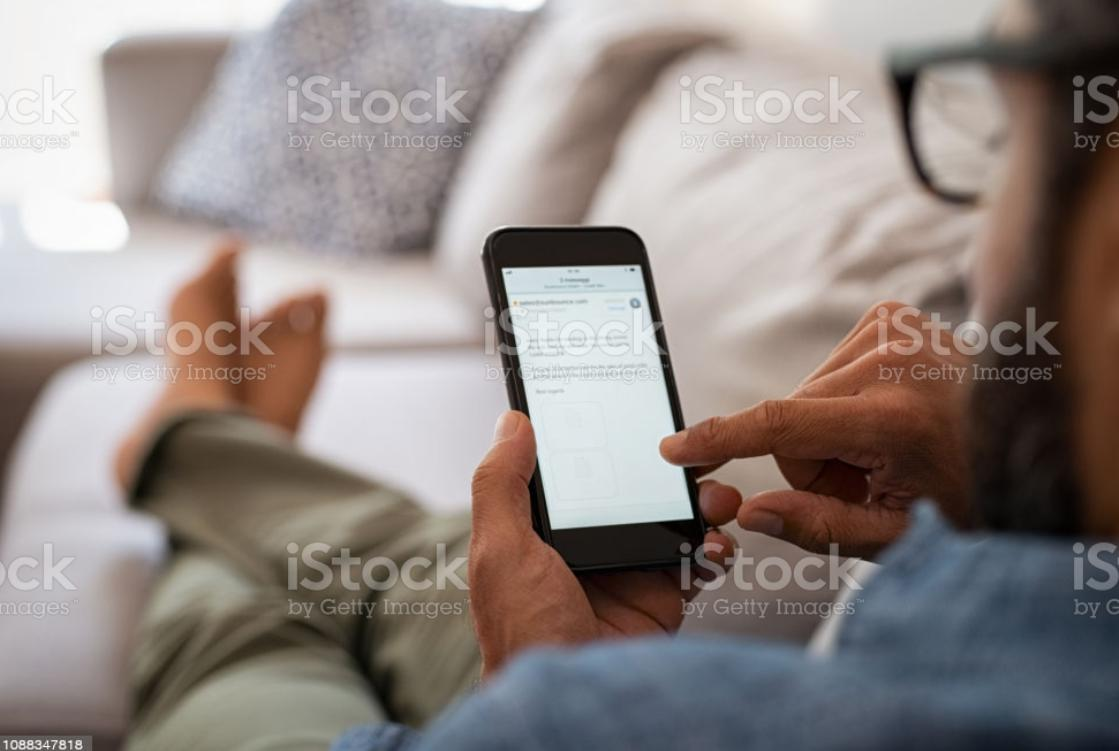mobile: (481, 223, 707, 574)
